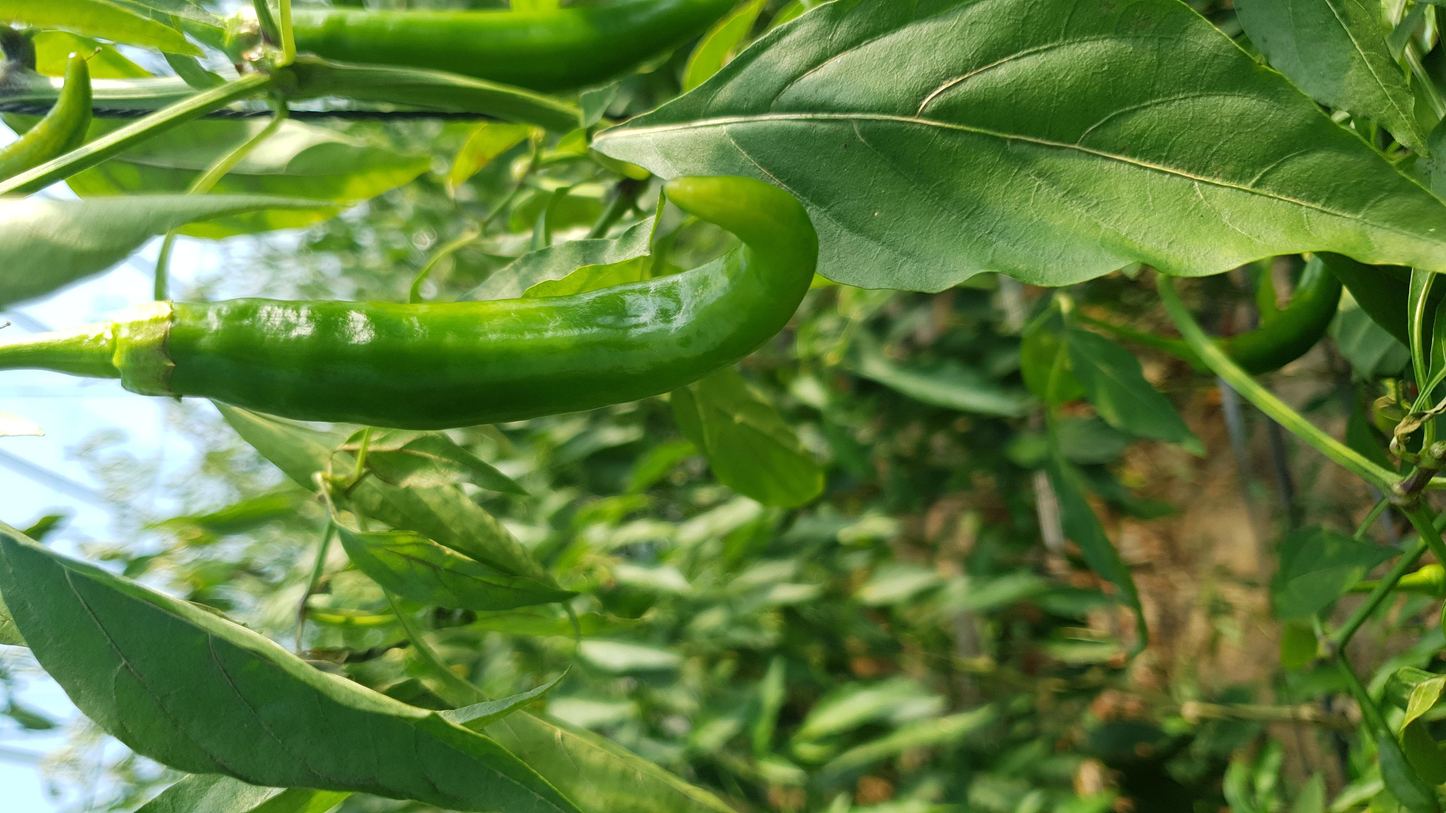Buah Cabai Sehat: (103, 172, 820, 433)
Daun Cabai Sehat: (579, 0, 1446, 299)
